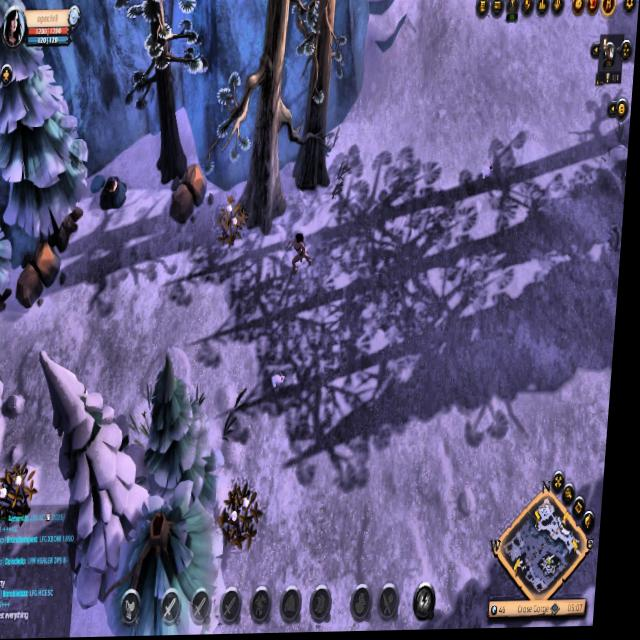copper_ore: (96, 171, 137, 214)
cotton: (0, 461, 46, 529), (224, 493, 274, 554), (218, 198, 259, 243)
limestone: (15, 235, 75, 318), (168, 163, 215, 232)
